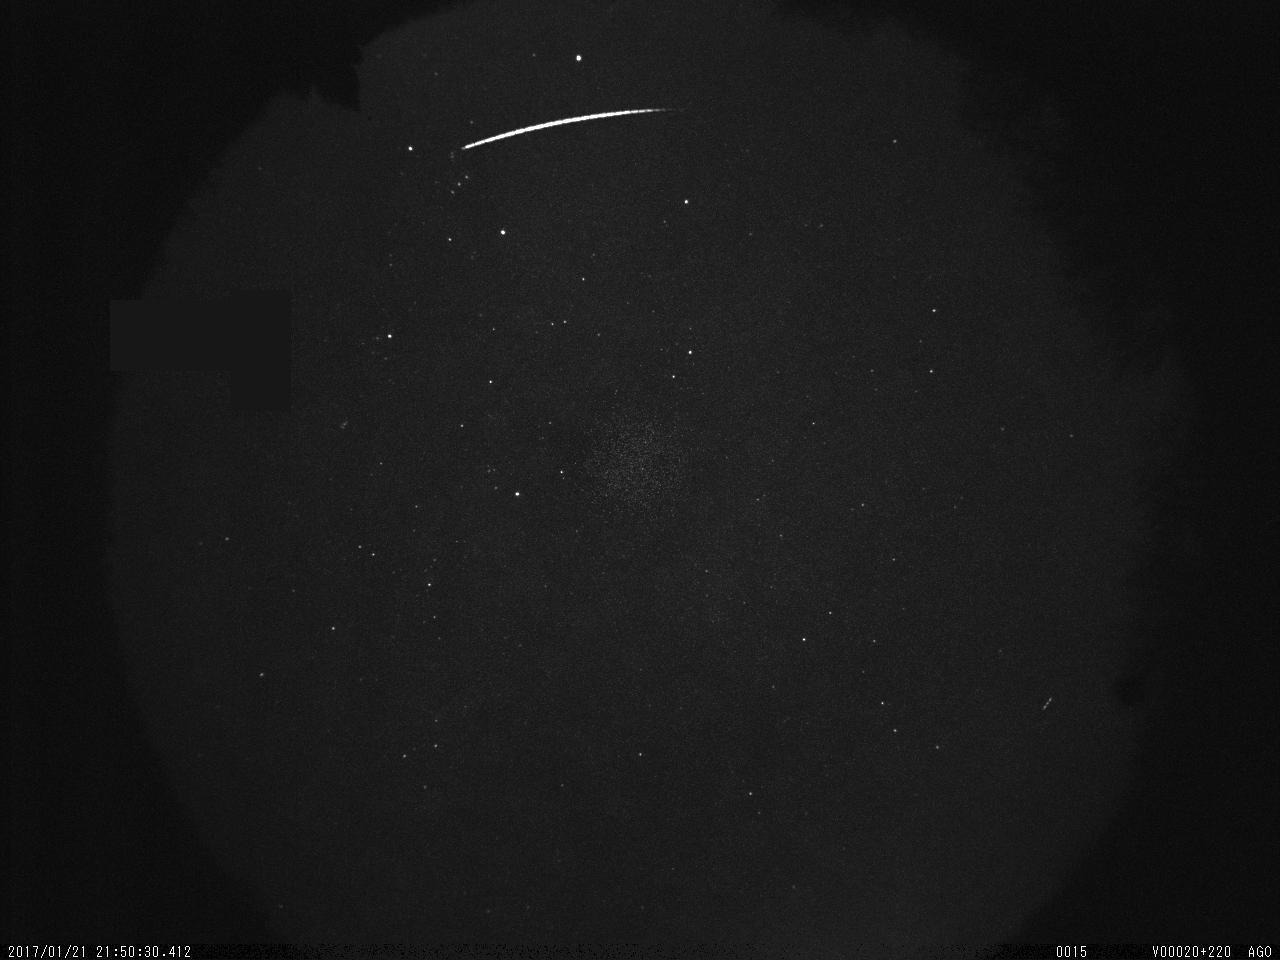meteor: (454, 101, 696, 157)
